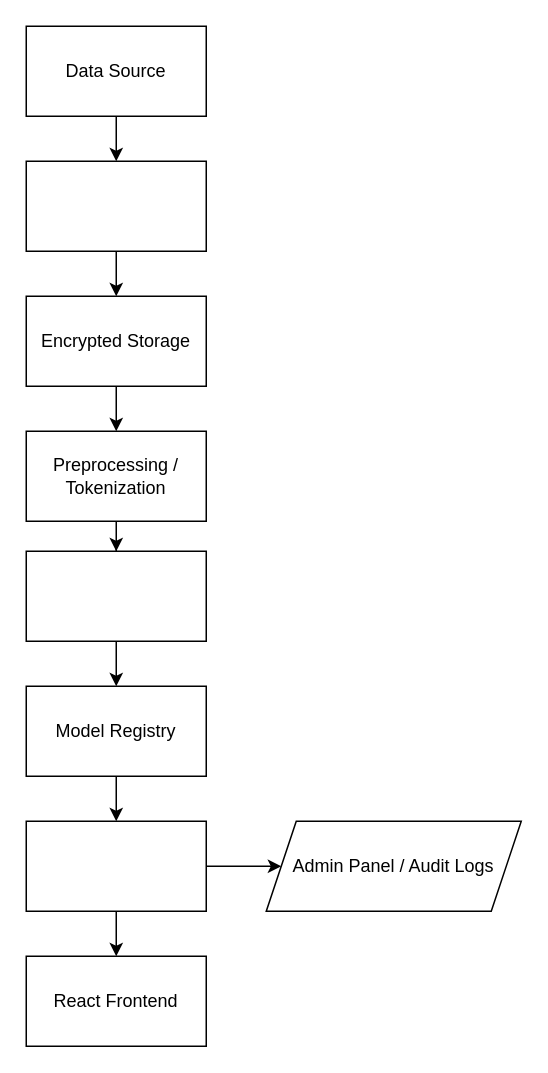
Some shapes in this 548 by 1073 pixel diagram are drawn without their labels. Here are the shapes that lost their labels. From the top down, the centre of each, then its label:
the point at 115,205: Ingest + Anonymize
the point at 115,595: Fine-tune / Adapter Training
the point at 115,865: API Server (Flask / FastAPI)
